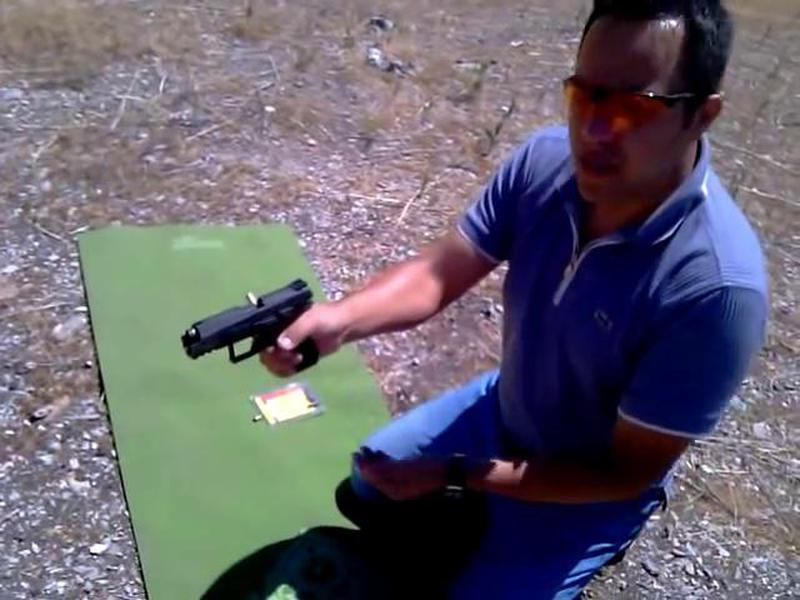Pistola: (157, 253, 329, 394)
